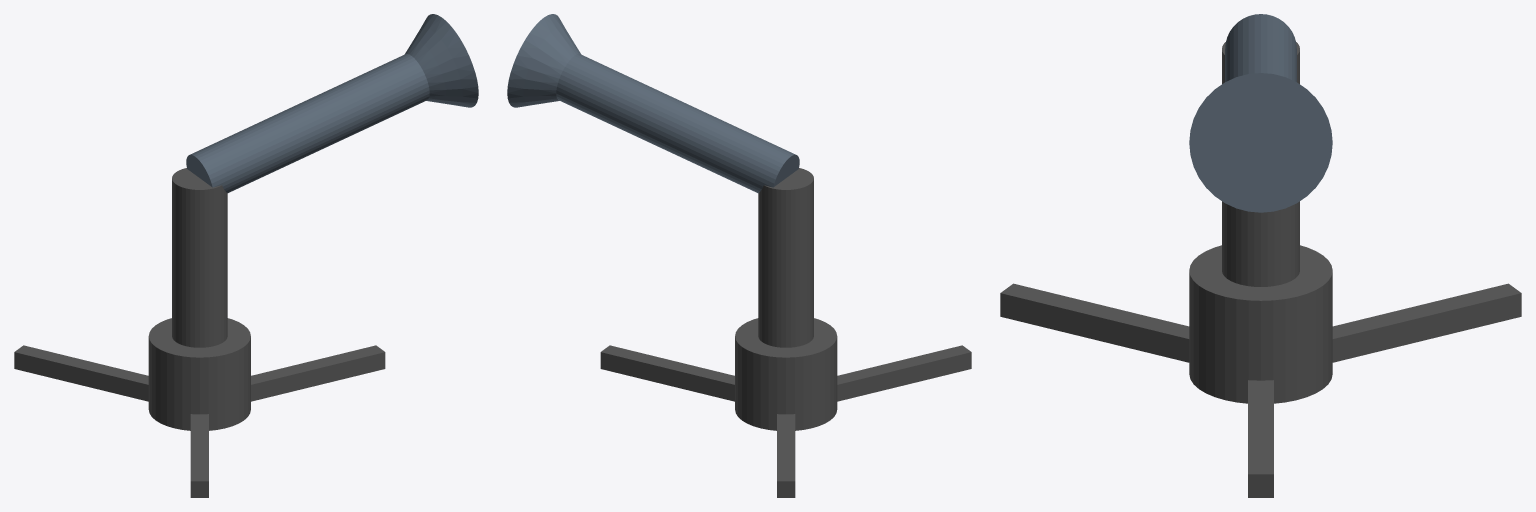
The model's file is snow_gun.obj.
3 renders of one model, left to right at view 1: azimuth 30°, elevation 25°; view 2: azimuth 150°, elevation 25°; view 3: azimuth 270°, elevation 25°, orthographic. The views are drawn at different scales.
Bounding box in the file's own units: 1.78 × 1.58 × 1.6.
